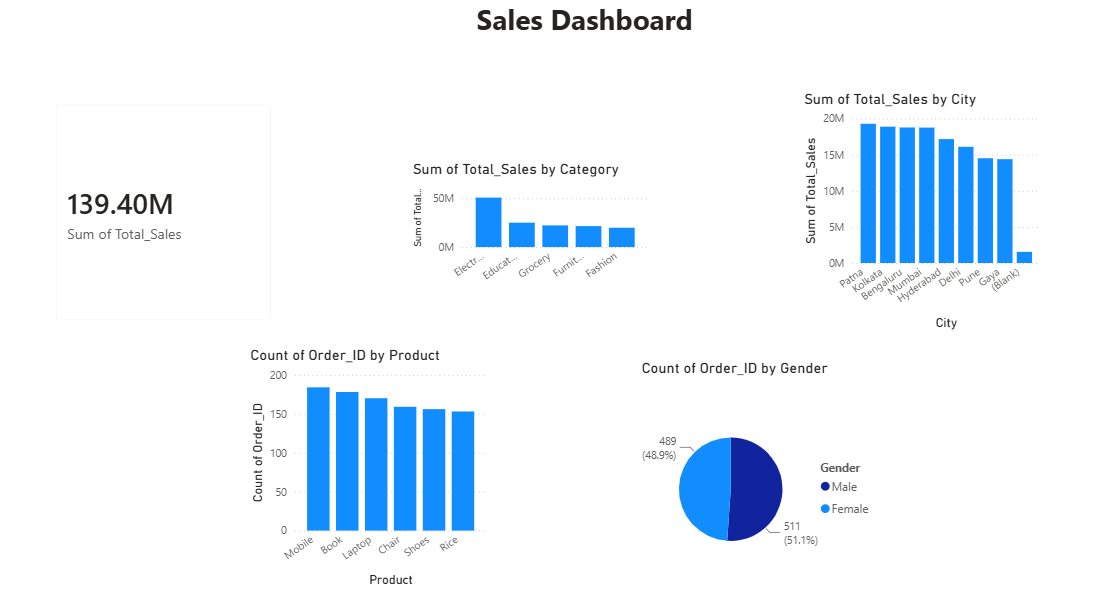

The dashboard page shown, as its layout file describes it:
{"tool":"powerbi","page":{"name":"Page 1","canvas":[1280,720],"ordinal":0},"visuals":[{"type":"cardVisual","fields":{"Data":["Sum(Sales_Dataset.Total_Sales)"]},"box":[51.4,107.1,280,280],"z":0},{"type":"clusteredColumnChart","fields":{"Category":["Sales_Dataset.Category"],"Y":["Sum(Sales_Dataset.Total_Sales)"]},"box":[471.4,187.1,280,150],"z":2},{"type":"clusteredColumnChart","fields":{"Category":["Sales_Dataset.City"],"Y":["Sum(Sales_Dataset.Total_Sales)"]},"box":[918.6,107.1,280,280],"z":3},{"type":"pieChart","fields":{"Category":["Sales_Dataset.Gender"],"Y":["CountNonNull(Sales_Dataset.Order_ID)"]},"box":[732.9,414.3,280,280],"z":4},{"type":"clusteredColumnChart","fields":{"Category":["Sales_Dataset.Product"],"Y":["CountNonNull(Sales_Dataset.Order_ID)"]},"box":[285.7,400,280,280],"z":5},{"type":"textbox","box":[361.4,0,622.9,75.7],"z":6}]}

Visuals, with their boxes in screenshot pixels (x1, y1, x2, y2), scaled from the page's 1280x720 canvas onto the 1108x615 screenshot:
cardVisual - Sum(Sales_Dataset.Total_Sales): (44, 91, 287, 331)
clusteredColumnChart - Sales_Dataset.Category x Sum(Sales_Dataset.Total_Sales): (408, 160, 650, 288)
clusteredColumnChart - Sales_Dataset.City x Sum(Sales_Dataset.Total_Sales): (795, 91, 1038, 331)
pieChart - Sales_Dataset.Gender x CountNonNull(Sales_Dataset.Order_ID): (634, 354, 877, 593)
clusteredColumnChart - Sales_Dataset.Product x CountNonNull(Sales_Dataset.Order_ID): (247, 342, 490, 581)
textbox: (313, 0, 852, 65)
